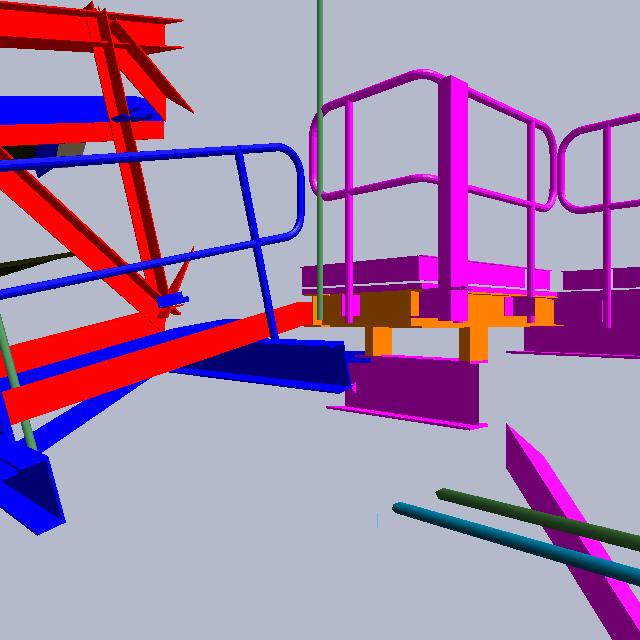Poste: (306, 1, 329, 329)
Soporte: (416, 72, 478, 328)
